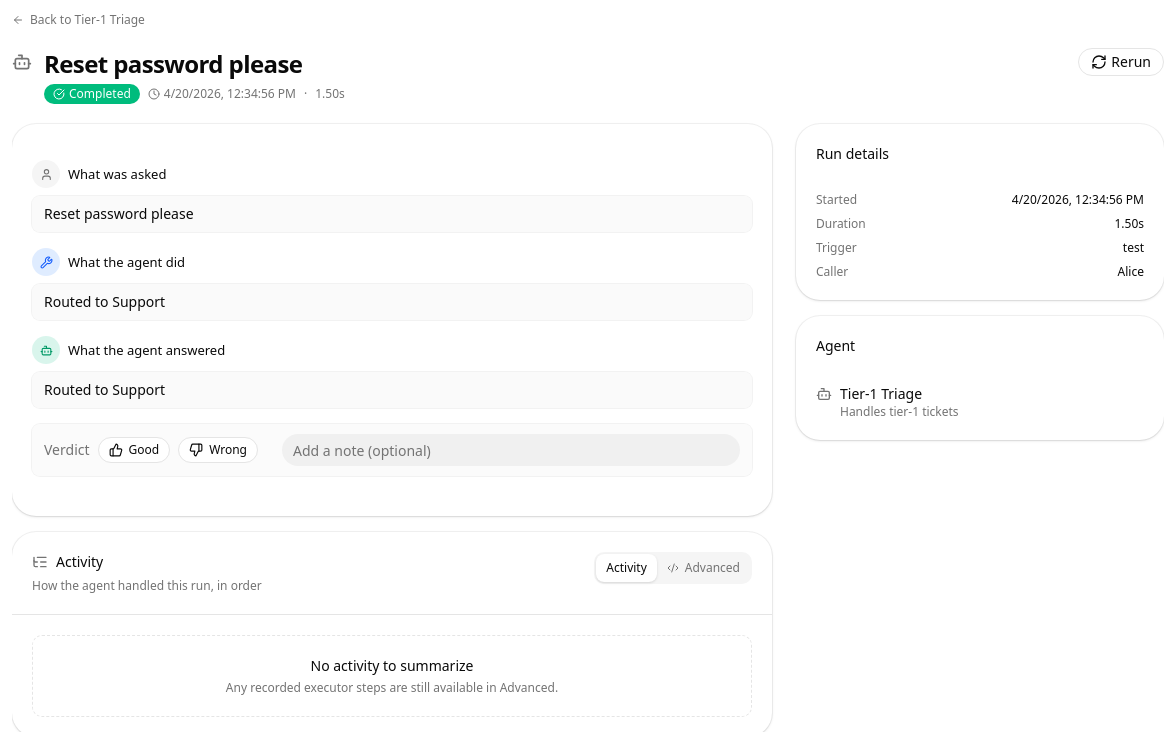
AgentRunDetailPage — AI usage card › renders the AI usage card when usage data is present
Click the button "Advanced" at (703, 568), box [657,554,750,582]
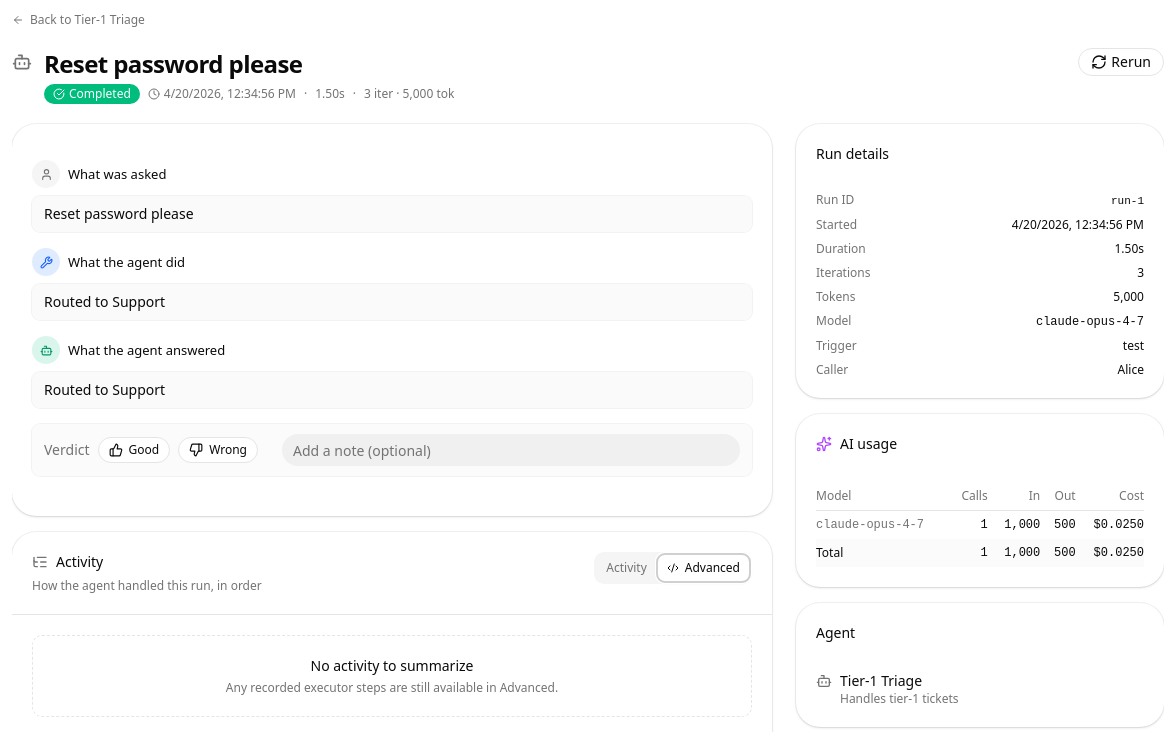
Result: the element with test id "ai-usage-card" is shown at [796,414,1164,587]
